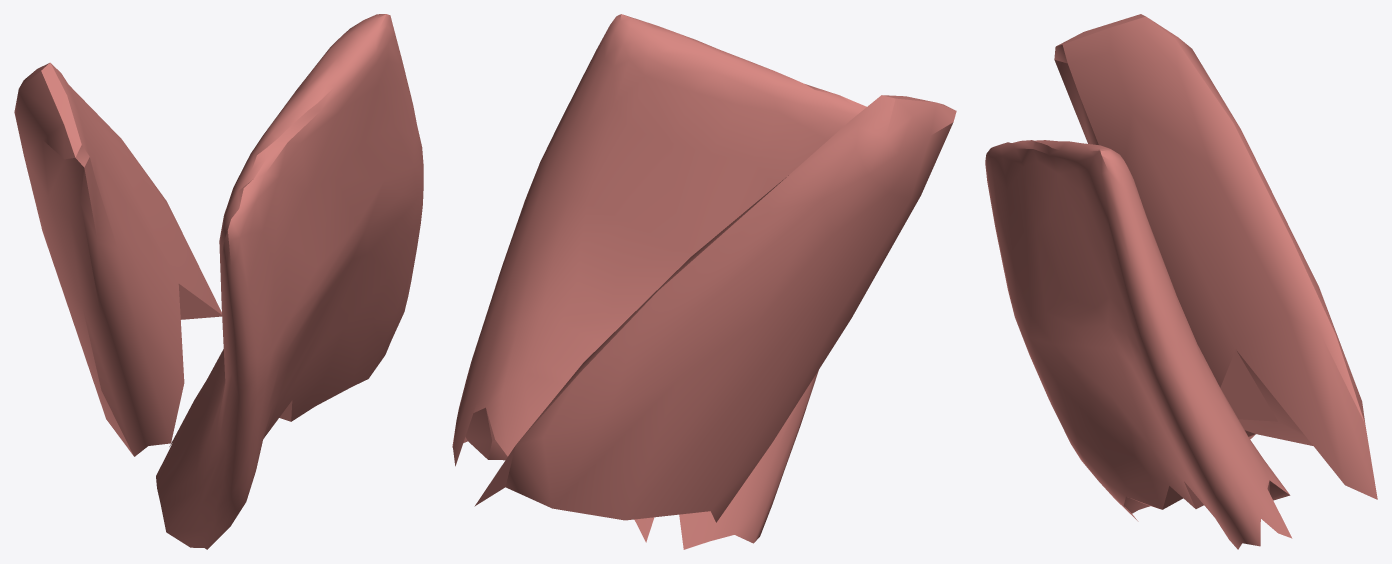
The model's file is fma81595_mm2387.glb.
3 views of the same model, side by side, from view 1: azimuth 30°, elevation 25°; view 2: azimuth 150°, elevation 25°; view 3: azimuth 270°, elevation 25° (orthographic). The views are drawn at different scales.
Parts seen in each view (by area): view 1: FMA81595_MM2387; view 2: FMA81595_MM2387; view 3: FMA81595_MM2387.
Boxes of the visible parts, x1,y1,x2,y2 form: FMA81595_MM2387: [14, 14, 423, 549]; FMA81595_MM2387: [452, 14, 956, 549]; FMA81595_MM2387: [985, 14, 1377, 549].
Size of the model in its own units: 0.0203 by 0.0234 by 0.0188.
